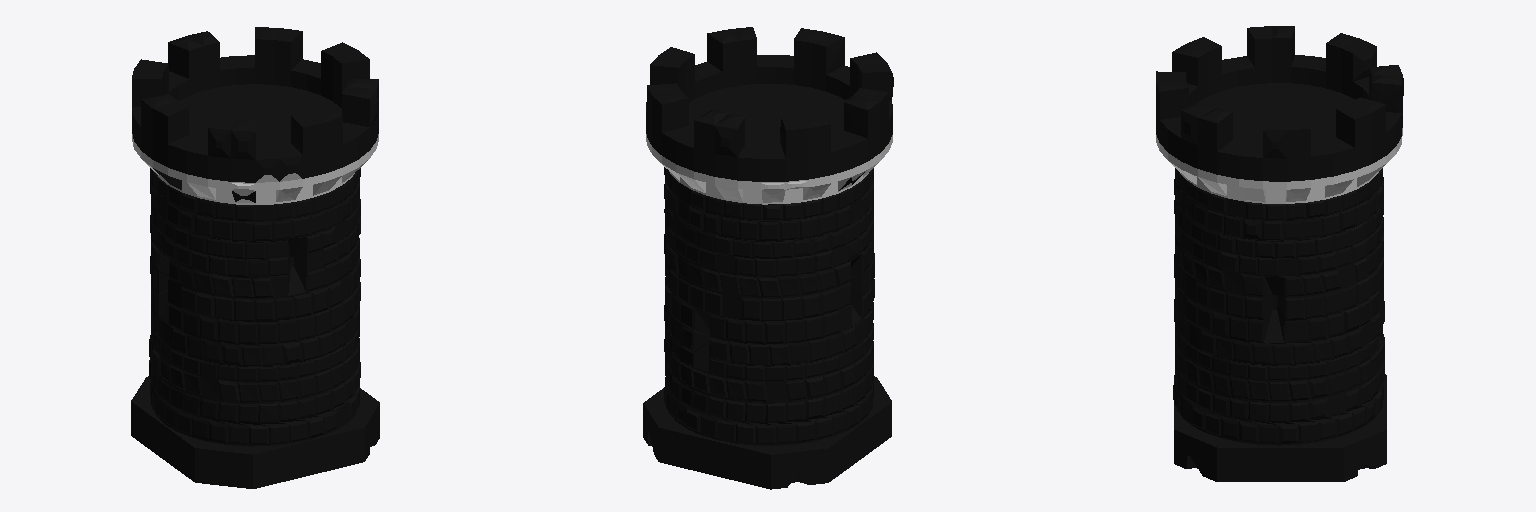
The model's file is tourMoodleText.obj.
3 renders of one model, left to right at view 1: azimuth 30°, elevation 25°; view 2: azimuth 150°, elevation 25°; view 3: azimuth 270°, elevation 25°, orthographic.
Visible parts, largest first — view 1: tour_Cube.005; view 2: tour_Cube.005; view 3: tour_Cube.005.
Part boxes in pixels (bbox=[...]): tour_Cube.005: bbox=[131, 27, 379, 488]; tour_Cube.005: bbox=[643, 27, 893, 489]; tour_Cube.005: bbox=[1156, 26, 1403, 481].
Size of the model in its own units: 58.02 by 92.86 by 57.86.